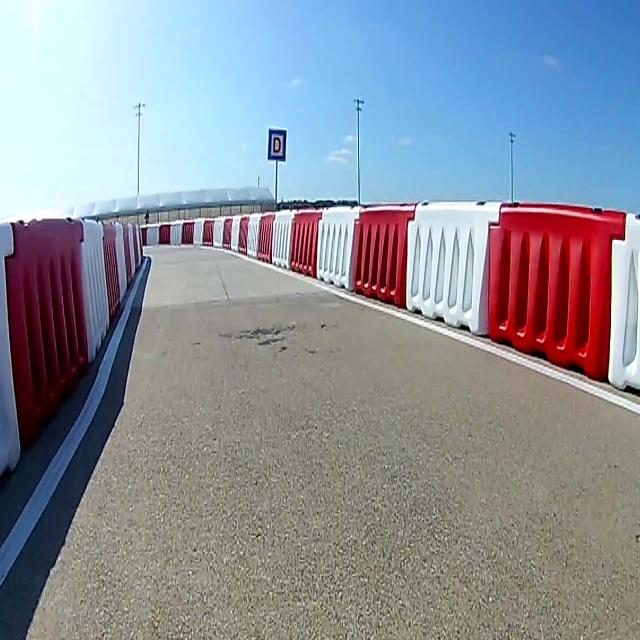durak: (268, 127, 286, 162)
